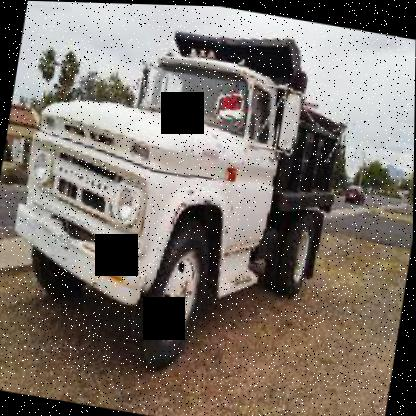not_emergency: (0, 0, 411, 393)
